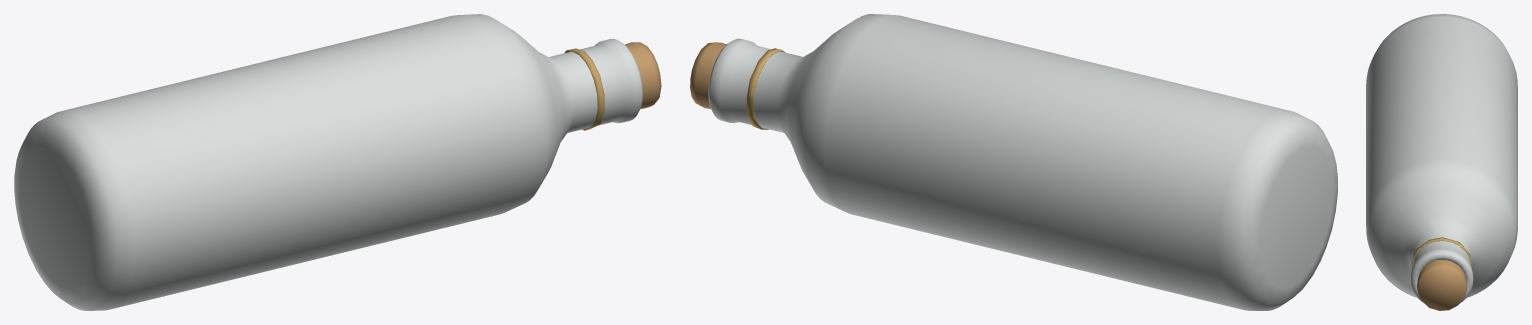
The model's file is longship-bottle-v5-game-preview-v2.fbx.
3 views of the same model, side by side, from view 1: azimuth 30°, elevation 25°; view 2: azimuth 150°, elevation 25°; view 3: azimuth 270°, elevation 25° (orthographic). The views are drawn at different scales.
Visible parts, largest first — view 1: Bottle | lightweight transparent glass, Longship | lightweight opaque assembly; view 2: Bottle | lightweight transparent glass, Longship | lightweight opaque assembly; view 3: Bottle | lightweight transparent glass, Longship | lightweight opaque assembly.
Part boxes in pixels (x1,y1,x2,y2): Bottle | lightweight transparent glass: (14, 14, 642, 310); Longship | lightweight opaque assembly: (564, 42, 661, 130); Bottle | lightweight transparent glass: (708, 14, 1337, 310); Longship | lightweight opaque assembly: (690, 42, 785, 129); Bottle | lightweight transparent glass: (1366, 14, 1517, 303); Longship | lightweight opaque assembly: (1411, 237, 1472, 310).
Bounding box in the file's own units: 188 × 56.42 × 56.4.
